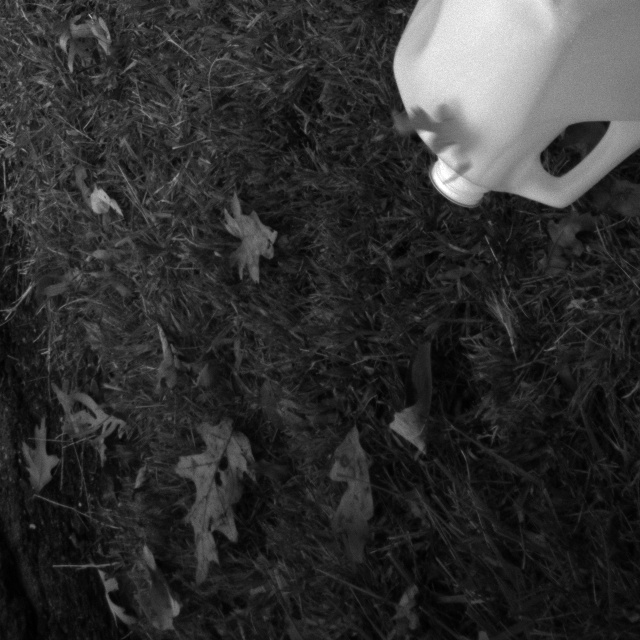can: (377, 0, 640, 238)
